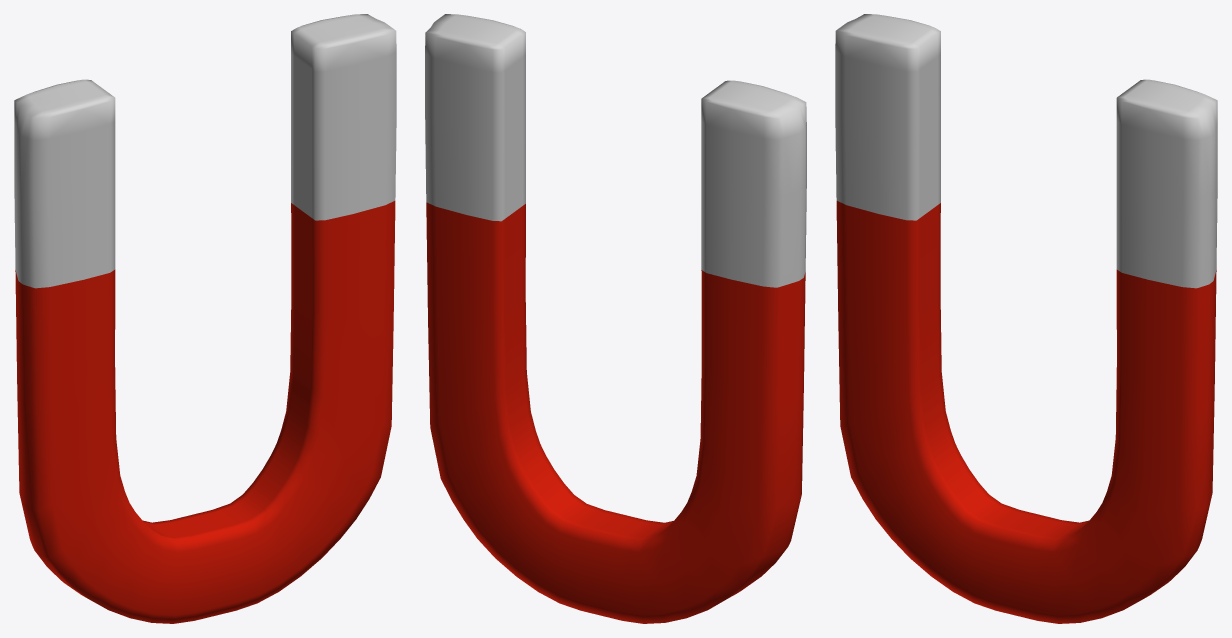
Rendered from magnet.fbx.
3 renders of one model, left to right at view 1: azimuth 30°, elevation 25°; view 2: azimuth 150°, elevation 25°; view 3: azimuth 330°, elevation 25°, orthographic.
Parts seen in each view (by area): view 1: magnet; view 2: magnet; view 3: magnet.
Boxes of the visible parts, x1=… form: magnet: x1=14, y1=14, x2=396, y2=623; magnet: x1=425, y1=14, x2=806, y2=623; magnet: x1=835, y1=14, x2=1217, y2=623.
Bounding box in the file's own units: 0.5953 × 0.83 × 0.0827.
